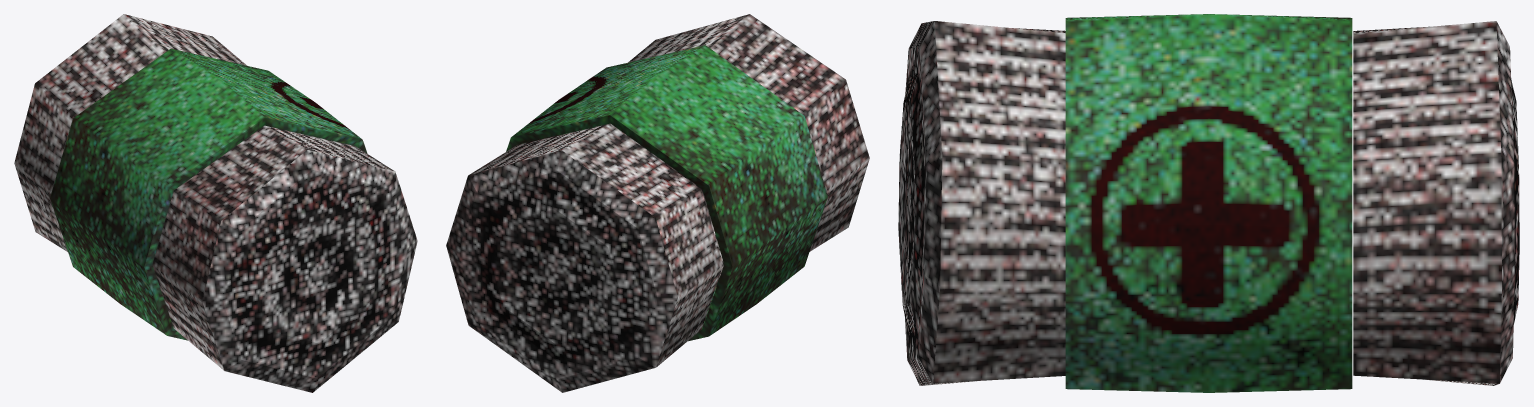
File: Bandage_EmbeddedMedia.fbx
3 views of the same model, side by side, from view 1: azimuth 30°, elevation 25°; view 2: azimuth 150°, elevation 25°; view 3: azimuth 270°, elevation 25° (orthographic). The views are drawn at different scales.
Parts seen in each view (by area): view 1: Bandage, Paper; view 2: Bandage, Paper; view 3: Bandage, Paper.
Part boxes in pixels (<box>): Bandage: <box>14,14,417,392</box>; Paper: <box>50,48,367,340</box>; Bandage: <box>446,14,869,392</box>; Paper: <box>506,45,827,341</box>; Bandage: <box>898,21,1519,385</box>; Paper: <box>1065,14,1352,392</box>.
Bounding box in the file's own units: 5.23 × 5.15 × 7.66.
1 material, 1 textured.
